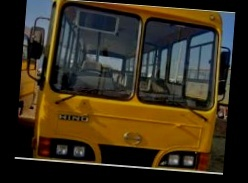bus: (28, 0, 230, 173)
